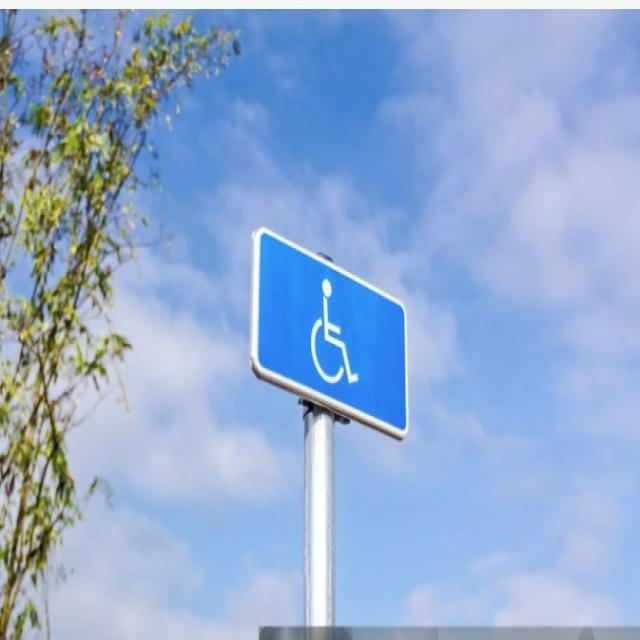symbol_of_access: (248, 226, 409, 440)
